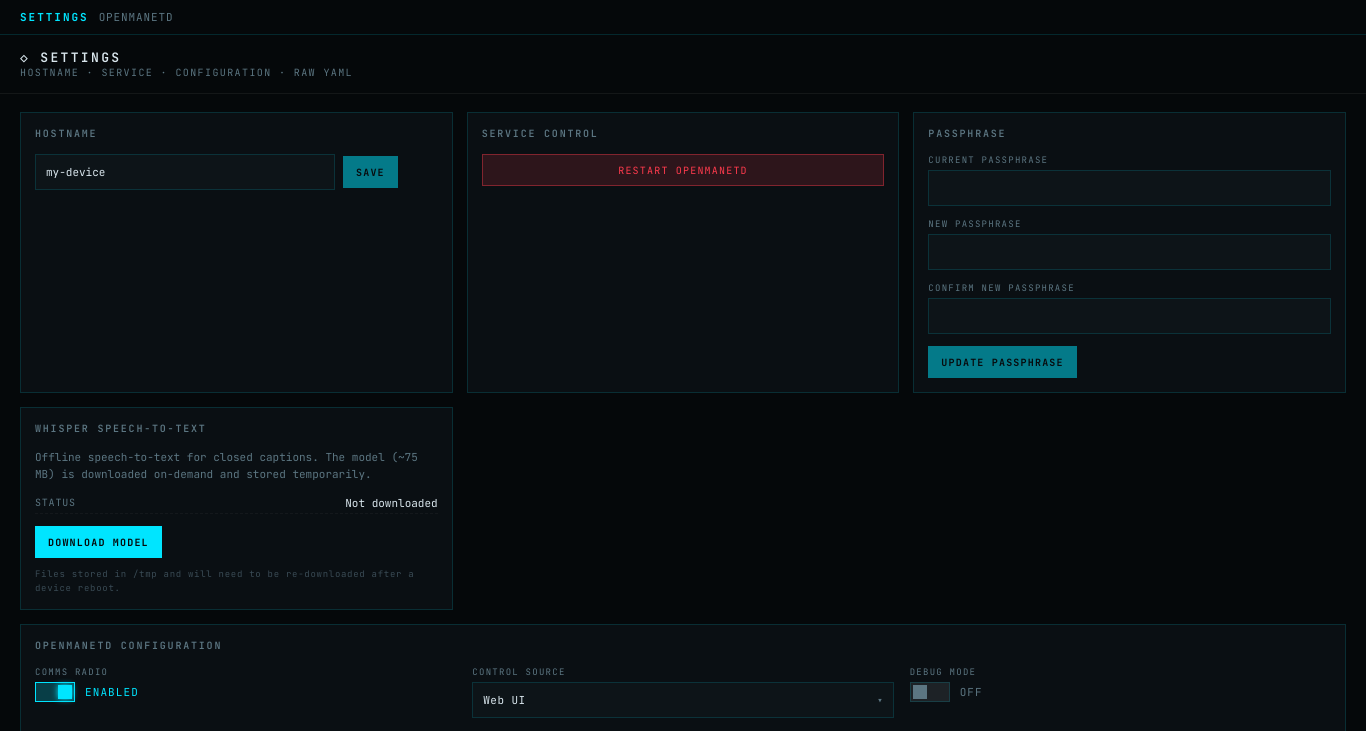
Test case: TestSettingsRestart › shows restarting text and success message after click
Step 1. Click the button "Restart openmanetd" → {"x": 683, "y": 170}, box left=482, top=154, right=884, bottom=186
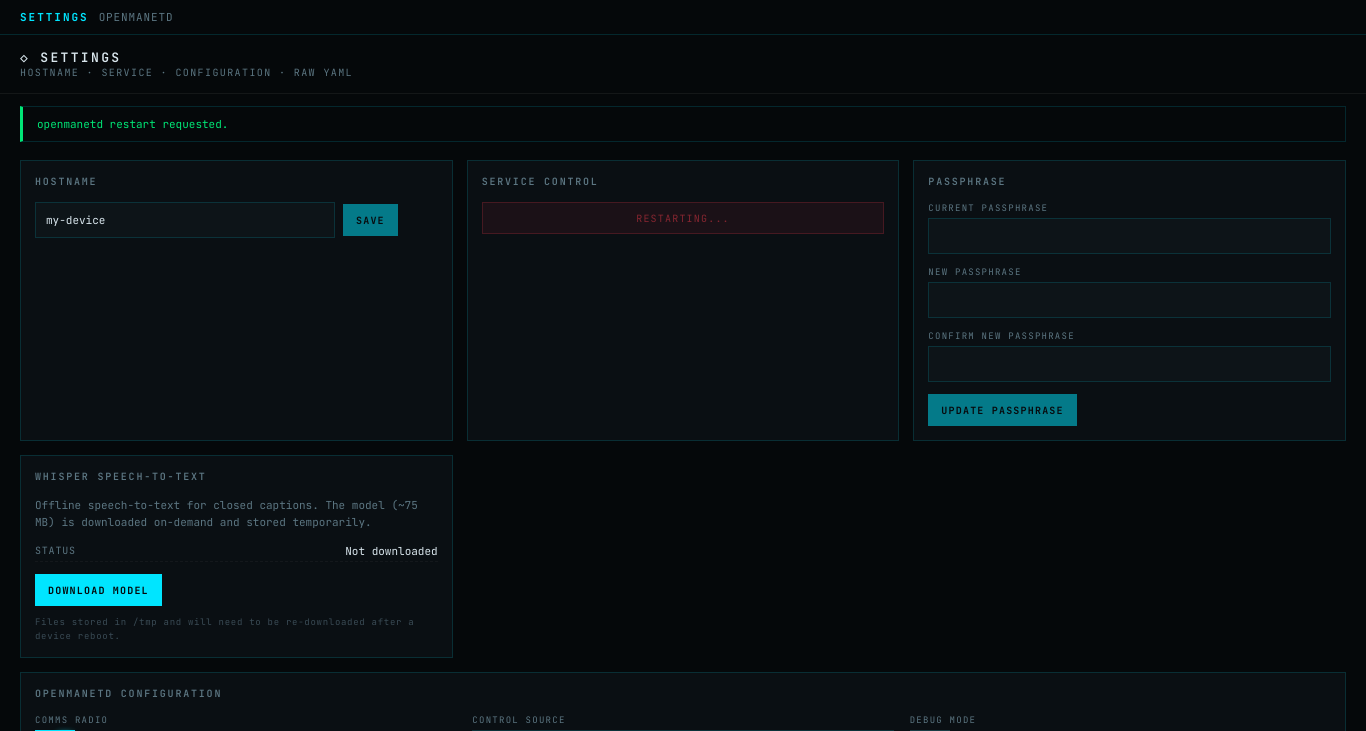
Expected: the text "openmanetd restart requested." is shown, left=20, top=106, right=1346, bottom=142
Expected: the button "Restarting..." is shown, left=482, top=202, right=884, bottom=234
